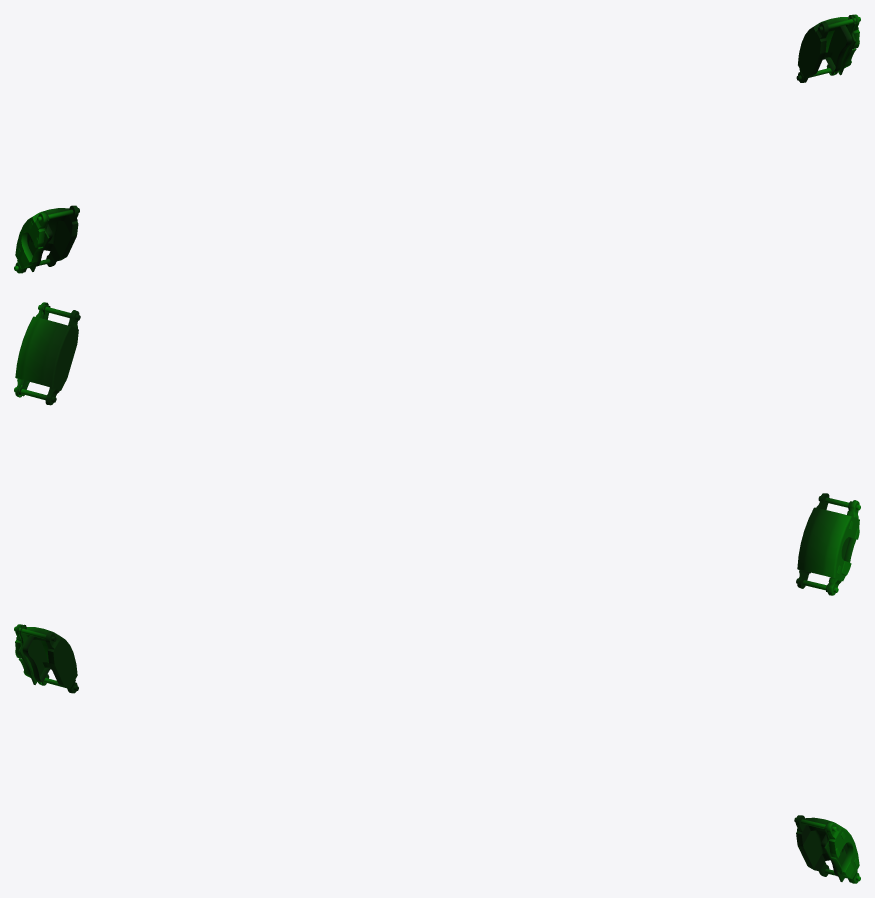
Rendered from Pontiac_GTOTheJudgeClassic_1969_Calliper2.fbx.
The picture shows the model from 3 angles, top to bottom: view 1: azimuth 30°, elevation 25°; view 2: azimuth 150°, elevation 25°; view 3: azimuth 330°, elevation 25°; orthographic projection.
Visible parts, largest first — view 1: Coloured Front R, Coloured Front L; view 2: Coloured Front L, Coloured Front R; view 3: Coloured Front L, Coloured Front R.
Part boxes in pixels (x1,y1,x2,y2): Coloured Front R: (14, 205, 79, 273); Coloured Front L: (796, 14, 860, 82); Coloured Front L: (14, 302, 80, 405); Coloured Front R: (796, 493, 860, 595); Coloured Front L: (794, 815, 860, 883); Coloured Front R: (14, 624, 78, 693).
Size of the model in its own units: 1.64 by 0.148 by 0.1012.
